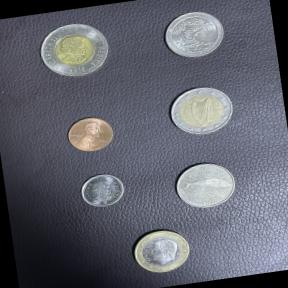coin: (30, 16, 115, 85), (162, 78, 242, 144), (156, 5, 232, 65), (168, 156, 242, 215), (126, 222, 197, 280), (59, 110, 120, 158), (76, 168, 128, 212)
